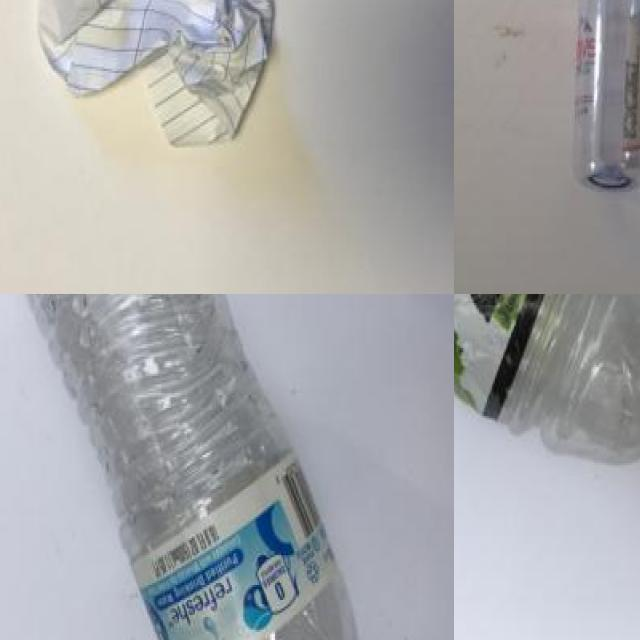paper: (21, 0, 296, 159)
plastic: (20, 294, 375, 640), (454, 294, 640, 502), (581, 0, 640, 194)
